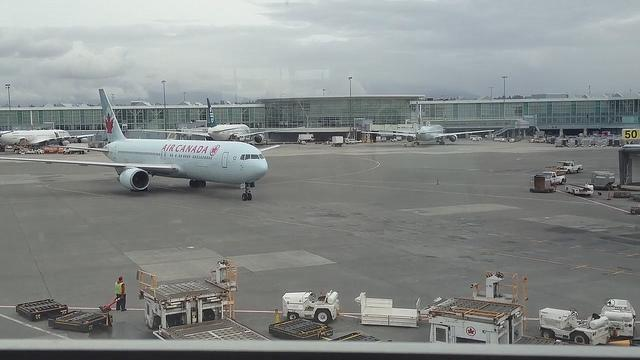car: (282, 288, 341, 326), (600, 298, 638, 338), (542, 172, 566, 186), (382, 137, 386, 142)
truck: (418, 295, 576, 345), (538, 306, 616, 347), (282, 284, 350, 323), (585, 170, 618, 190), (556, 160, 584, 174), (536, 172, 566, 185), (564, 184, 594, 195), (62, 142, 88, 154), (329, 136, 344, 147), (299, 134, 315, 142)
